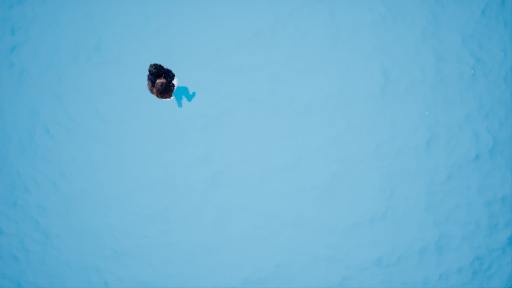person: (142, 62, 197, 109)
